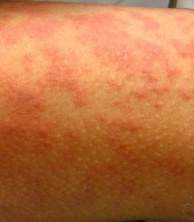SJS-TEN: (0, 1, 194, 220)
